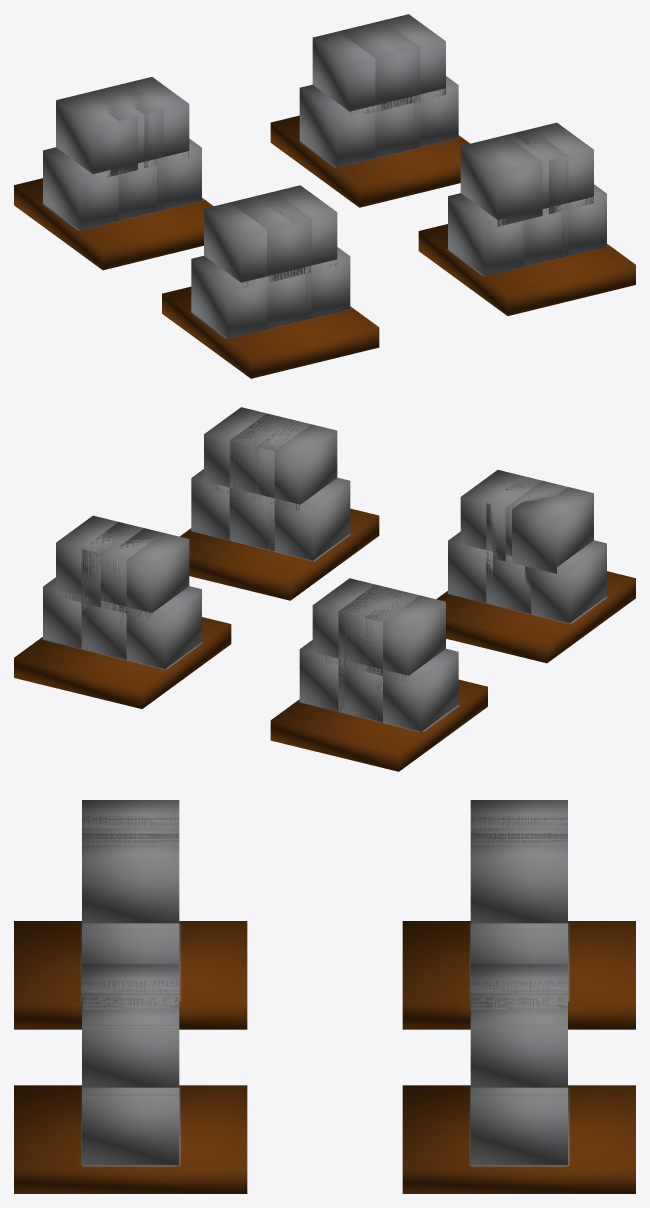
File: pallet-staging-body-tripo-original.glb
3 renders of one model, top to bottom at view 1: azimuth 30°, elevation 25°; view 2: azimuth 150°, elevation 25°; view 3: azimuth 270°, elevation 25°, orthographic. The views are drawn at different scales.
Visible parts, largest first — view 1: Authored_surface_167; view 2: Authored_surface_167; view 3: Authored_surface_167.
Part boxes in pixels (x1,y1,x2,y2): Authored_surface_167: [14, 14, 635, 378]; Authored_surface_167: [14, 407, 635, 771]; Authored_surface_167: [14, 800, 635, 1193].
Size of the model in its own units: 0.9375 by 0.2797 by 1.
1 material, 1 textured.
